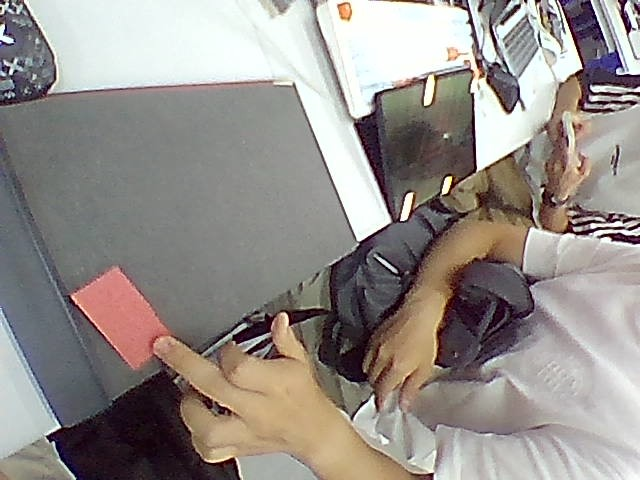card: (71, 267, 170, 369)
